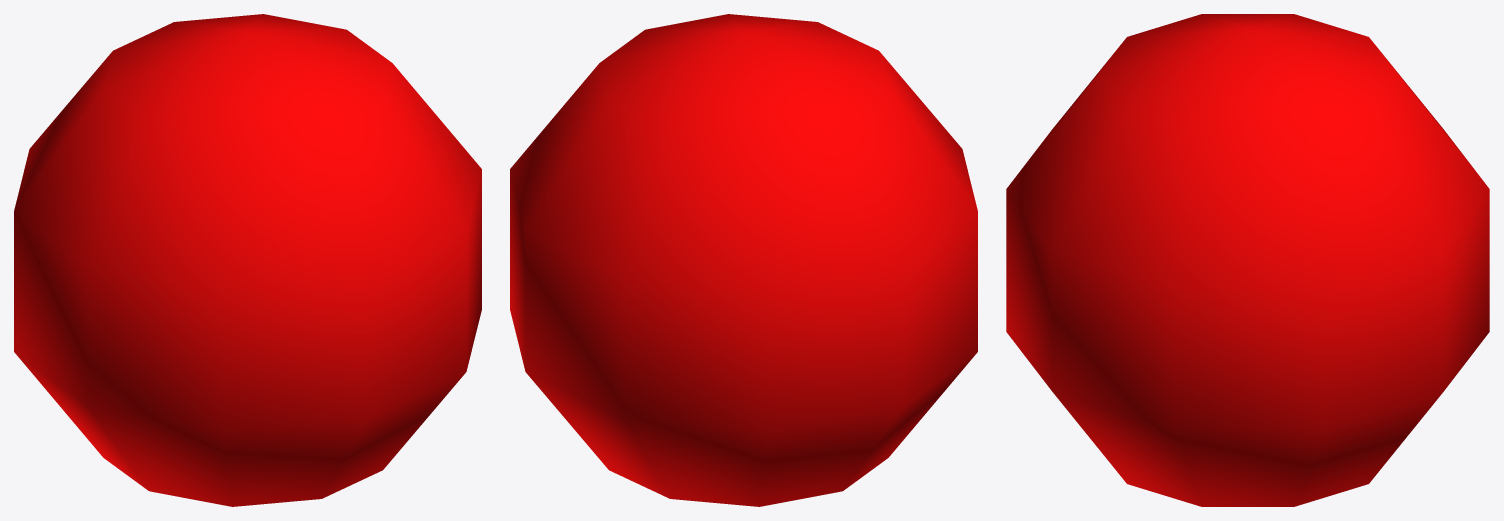
File: Player.FBX
3 views of the same model, side by side, from view 1: azimuth 30°, elevation 25°; view 2: azimuth 150°, elevation 25°; view 3: azimuth 270°, elevation 25° (orthographic).
Parts seen in each view (by area): view 1: Sphere001; view 2: Sphere001; view 3: Sphere001.
Part boxes in pixels (x1,y1,x2,y2): Sphere001: [14, 14, 481, 506]; Sphere001: [510, 14, 977, 506]; Sphere001: [1006, 14, 1489, 506].
Bounding box in the file's own units: 0.9045 × 1 × 0.9511.
